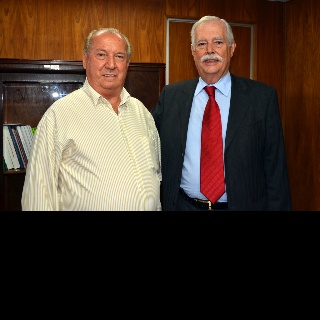without_mask: (86, 39, 127, 92), (194, 24, 231, 73)
